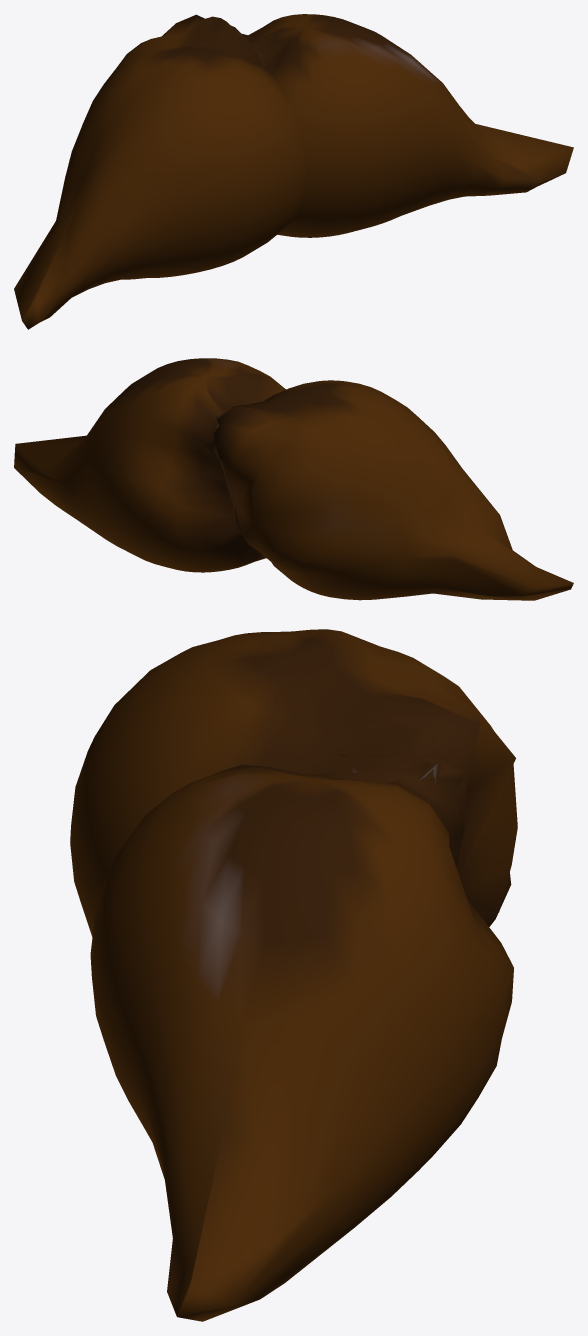
The model's file is LawyerGhostMustache.fbx.
3 views of the same model, one above another, from view 1: azimuth 30°, elevation 25°; view 2: azimuth 150°, elevation 25°; view 3: azimuth 270°, elevation 25° (orthographic). The views are drawn at different scales.
Visible parts, largest first — view 1: Sphere.001; view 2: Sphere.001; view 3: Sphere.001.
Boxes of the visible parts, x1,y1,x2,y2 form: Sphere.001: (14, 14, 573, 329); Sphere.001: (14, 358, 573, 600); Sphere.001: (70, 629, 517, 1321).
Bounding box in the file's own units: 108 × 38.06 × 38.79.
